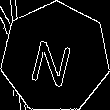N_N: (30, 28, 80, 87)
